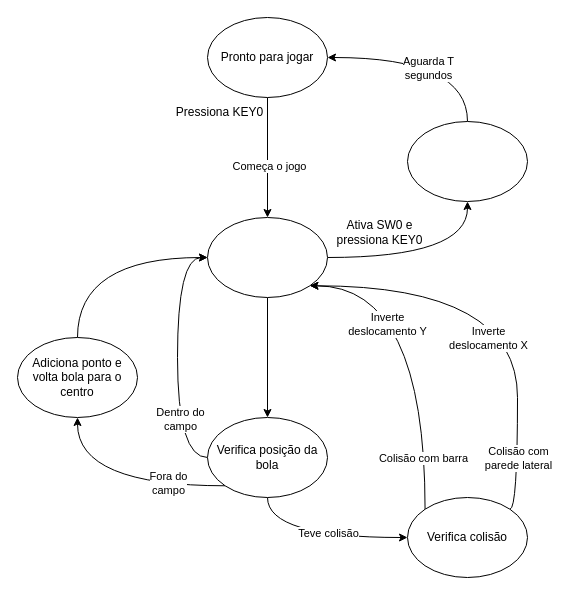
Some shapes in this 569 by 595 pixel diagram are drawn without their labels. Here are the shapes that lost their labels. From the top down, the centre of each, then its label:
At point 467,161: "Reset jogo".
At point 267,257: "Atualiza posições".
